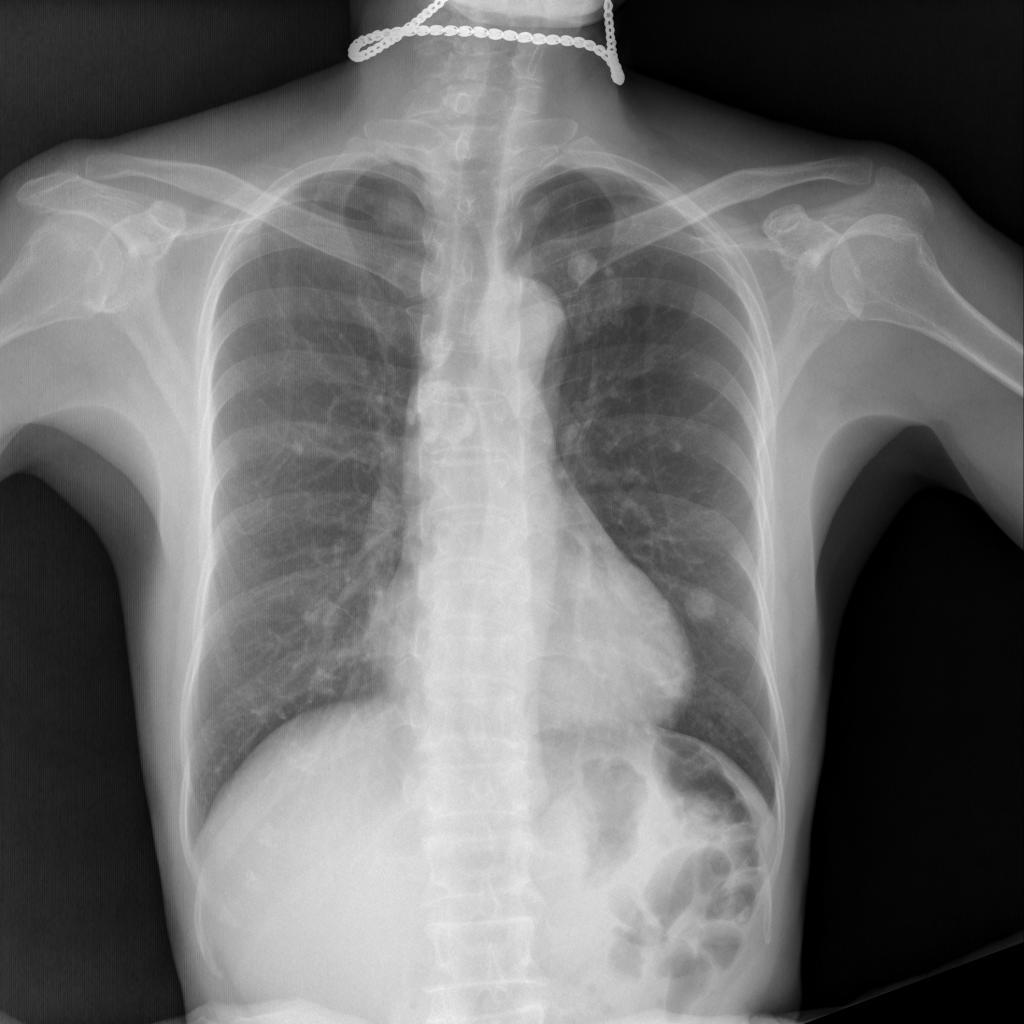Nodule: (558, 245, 606, 289)
